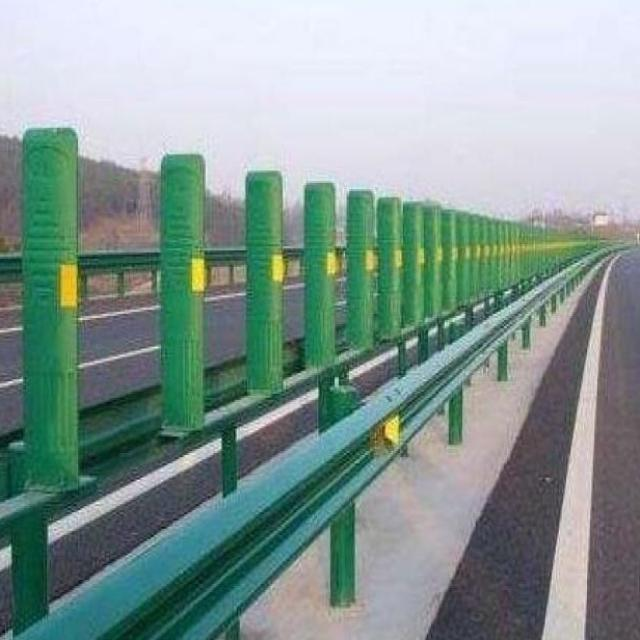Guard rail: (3, 250, 610, 640)
